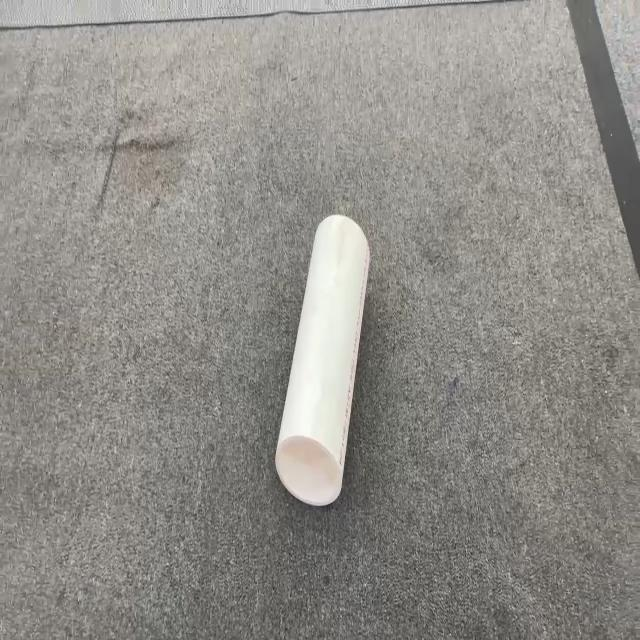coral: (274, 212, 370, 506)
